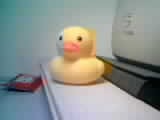duck: (53, 14, 115, 77)
